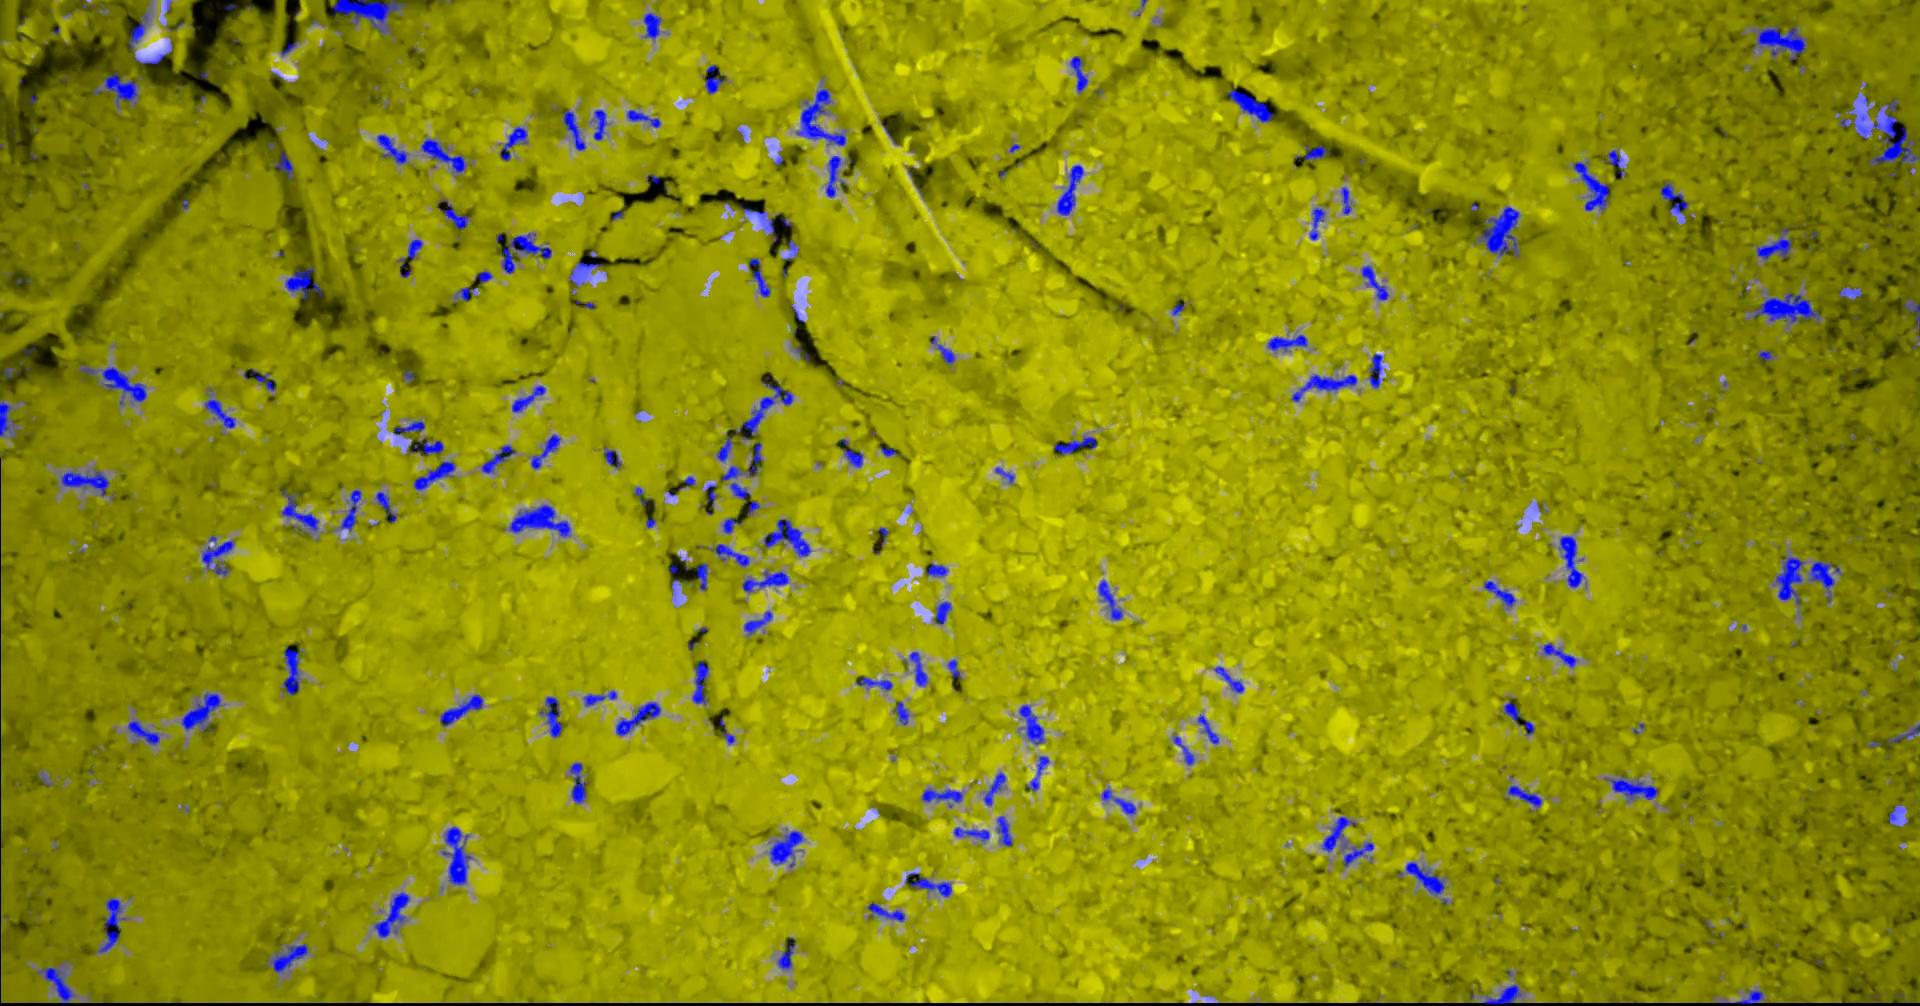ant: (735, 375, 792, 439), (795, 88, 844, 145), (79, 365, 146, 405), (499, 232, 551, 273), (509, 504, 570, 536), (1751, 24, 1804, 60), (1290, 373, 1356, 401), (763, 518, 810, 556), (441, 826, 471, 884), (1572, 161, 1609, 210), (373, 892, 409, 937), (281, 489, 317, 531), (97, 897, 124, 951), (1227, 89, 1272, 122), (615, 702, 660, 735), (182, 692, 221, 730), (420, 138, 465, 171), (1808, 560, 1843, 602), (1605, 775, 1658, 801), (1775, 555, 1803, 605), (439, 694, 483, 725), (1057, 164, 1083, 215), (37, 967, 72, 1005), (1404, 861, 1444, 895), (1558, 535, 1583, 587), (102, 71, 138, 107), (60, 469, 108, 495), (1321, 815, 1355, 852), (768, 829, 803, 866), (284, 265, 321, 298), (413, 461, 455, 489), (1755, 227, 1790, 259), (201, 540, 232, 575), (270, 942, 307, 972), (905, 873, 951, 895), (1018, 704, 1044, 744), (742, 570, 789, 592), (530, 434, 560, 467), (729, 481, 759, 514), (1503, 701, 1534, 734), (538, 696, 563, 737), (1097, 580, 1123, 619), (499, 126, 527, 160), (1660, 180, 1688, 215), (481, 445, 516, 473), (282, 647, 302, 694), (710, 542, 749, 567), (563, 109, 585, 150), (376, 133, 408, 163), (510, 385, 545, 412), (339, 489, 361, 531), (1361, 265, 1388, 298), (1542, 641, 1576, 667), (1101, 789, 1135, 814), (204, 399, 235, 427), (748, 257, 770, 296), (1483, 580, 1515, 607), (1026, 754, 1049, 790), (1341, 841, 1373, 866), (1482, 984, 1521, 1005), (568, 260, 601, 285), (1886, 724, 1919, 748), (1507, 784, 1542, 807), (1214, 666, 1243, 692), (127, 720, 159, 744), (1054, 436, 1096, 453), (128, 11, 147, 50), (439, 205, 471, 227), (569, 762, 587, 803), (692, 661, 709, 704), (983, 772, 1004, 805), (930, 335, 954, 365), (838, 438, 862, 467), (743, 610, 772, 634), (867, 902, 904, 921), (1722, 988, 1763, 1005), (702, 64, 725, 93), (375, 492, 396, 522), (1069, 55, 1087, 91), (1267, 334, 1307, 351), (1197, 713, 1218, 744), (825, 155, 841, 197), (399, 239, 422, 267), (0, 399, 17, 437), (626, 109, 660, 127), (273, 150, 293, 179), (909, 652, 927, 685), (921, 788, 963, 801), (1604, 149, 1624, 177), (1173, 735, 1194, 763), (777, 937, 795, 969), (952, 826, 989, 841), (583, 690, 616, 706), (408, 438, 443, 453), (133, 50, 171, 64), (1295, 144, 1330, 159), (250, 368, 274, 390), (855, 676, 891, 690), (996, 815, 1012, 846), (1309, 207, 1324, 239), (1368, 353, 1382, 387), (747, 442, 761, 476), (643, 11, 660, 38), (1903, 298, 1919, 328), (392, 420, 424, 434), (592, 109, 606, 140), (719, 716, 734, 744), (893, 701, 909, 725), (716, 436, 731, 461), (935, 601, 951, 624), (739, 205, 764, 218), (723, 516, 742, 533), (603, 447, 620, 467), (994, 466, 1015, 483), (1340, 185, 1351, 213), (1839, 286, 1862, 300), (924, 561, 947, 575), (721, 465, 742, 480), (696, 563, 707, 589), (455, 286, 476, 300), (634, 486, 649, 506), (946, 659, 960, 680), (766, 218, 777, 243), (1888, 804, 1901, 826), (705, 484, 716, 507), (474, 271, 491, 282), (880, 445, 897, 455), (1757, 351, 1771, 361)
